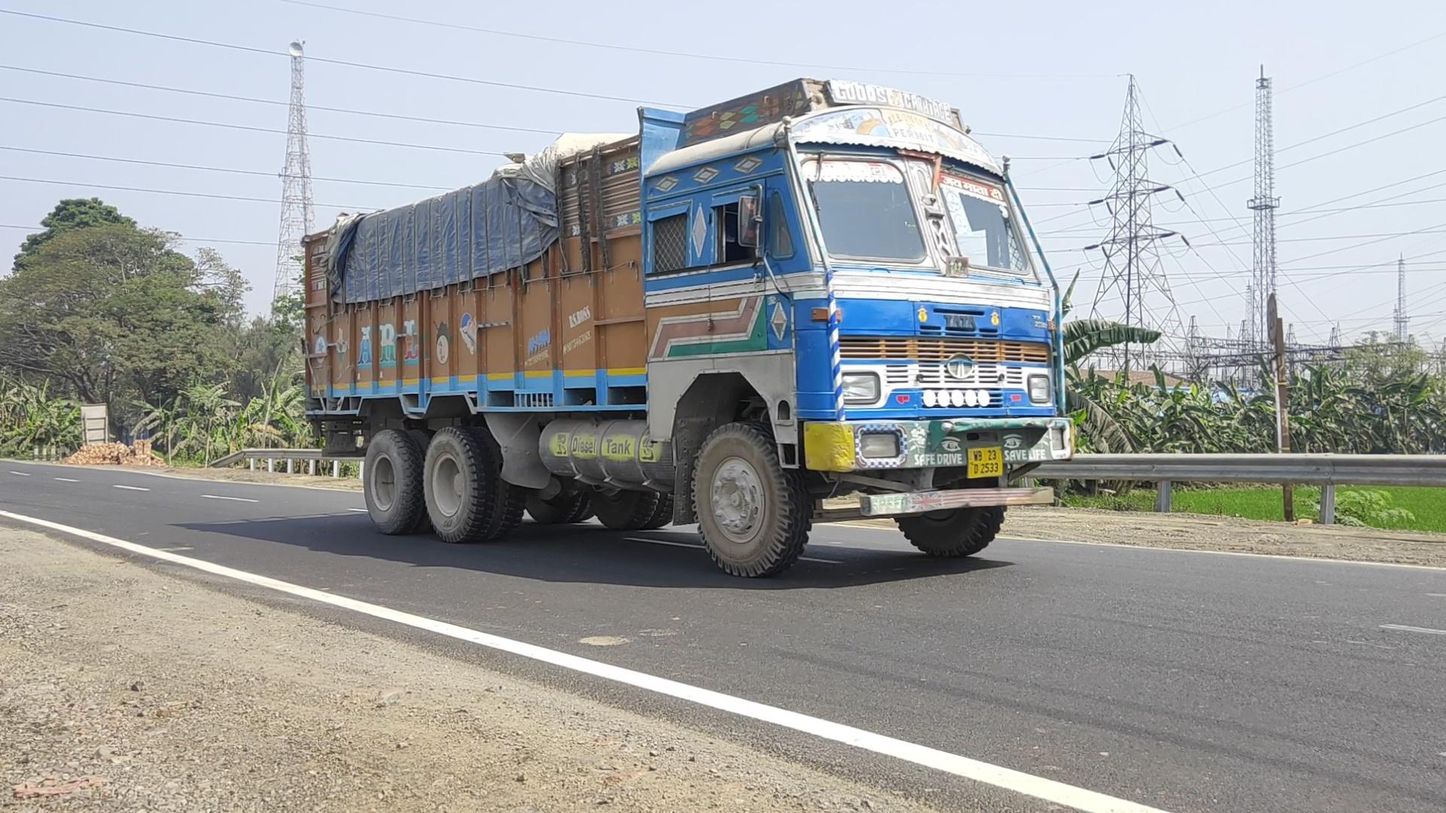truck: (300, 78, 1075, 580)
